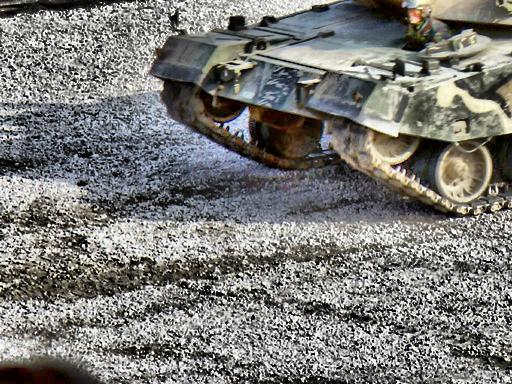tanks: (151, 1, 512, 215)
